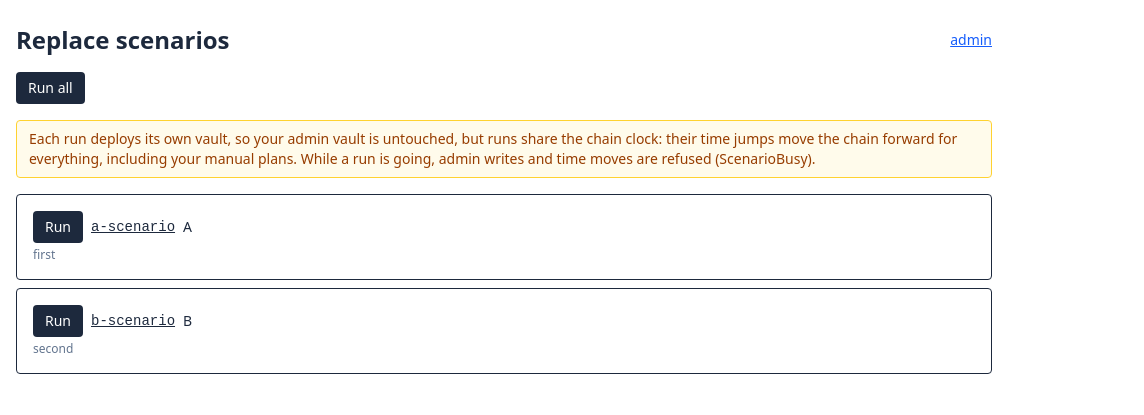
Test: ScenariosPage › ScenarioBusy (a run from another tab) shows a toast and marks that scenario
Step 1. Click the 2nd button "Run" → (58, 321), box x1=33 y1=305 x2=83 y2=337
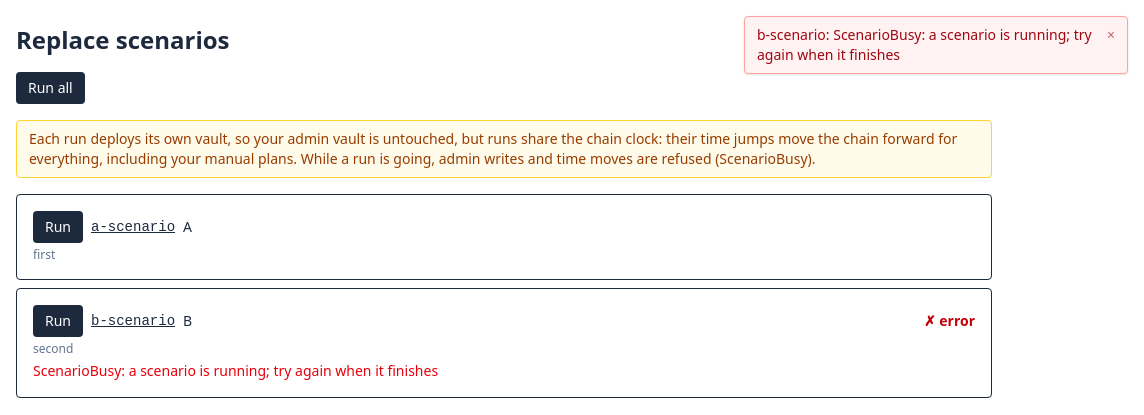
Check: the message shows "b-scenario: ScenarioBusy: a scenario is running; try again when it finishes", box x1=757 y1=25 x2=1092 y2=64
Check: the text "✗ error" is shown, box x1=924 y1=311 x2=975 y2=331
